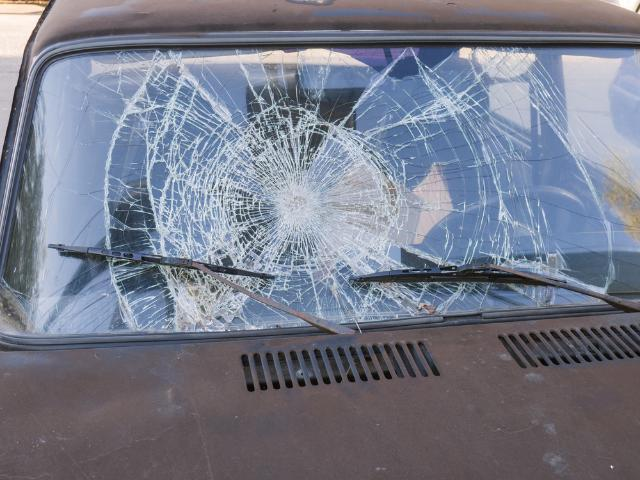glass shatter: (0, 41, 640, 337)
